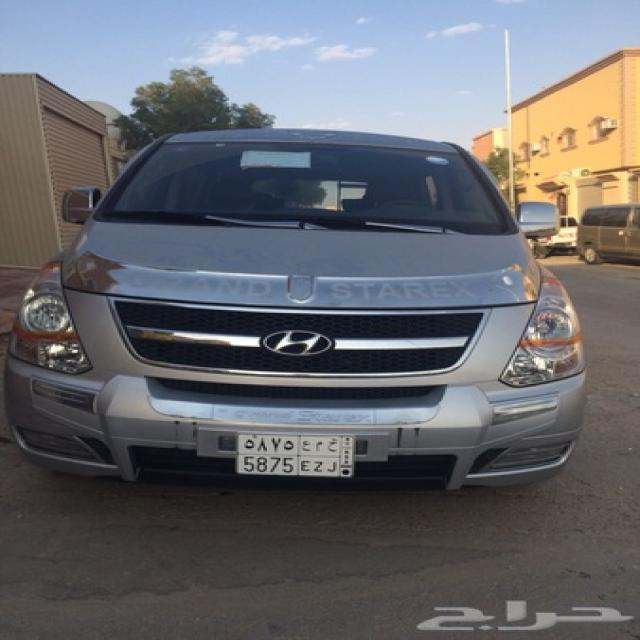license_plate: (235, 431, 358, 479)
